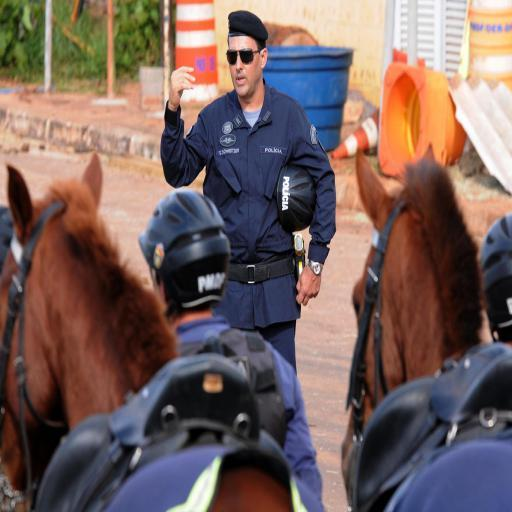horse: (0, 160, 303, 512), (341, 142, 512, 512)
